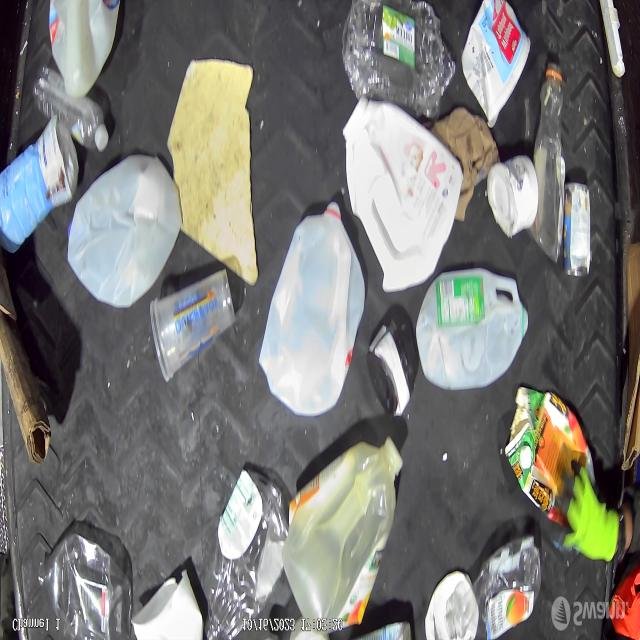can: (564, 180, 591, 280)
milk_jug: (342, 94, 461, 295), (283, 437, 404, 631), (258, 207, 364, 416), (67, 151, 183, 313), (415, 273, 527, 393), (47, 0, 121, 97)
non_white_jug: (509, 389, 589, 524)
plastic_bottle: (203, 467, 288, 640), (342, 0, 455, 119), (444, 534, 542, 640), (39, 531, 134, 640), (530, 58, 567, 264), (32, 64, 110, 152)
